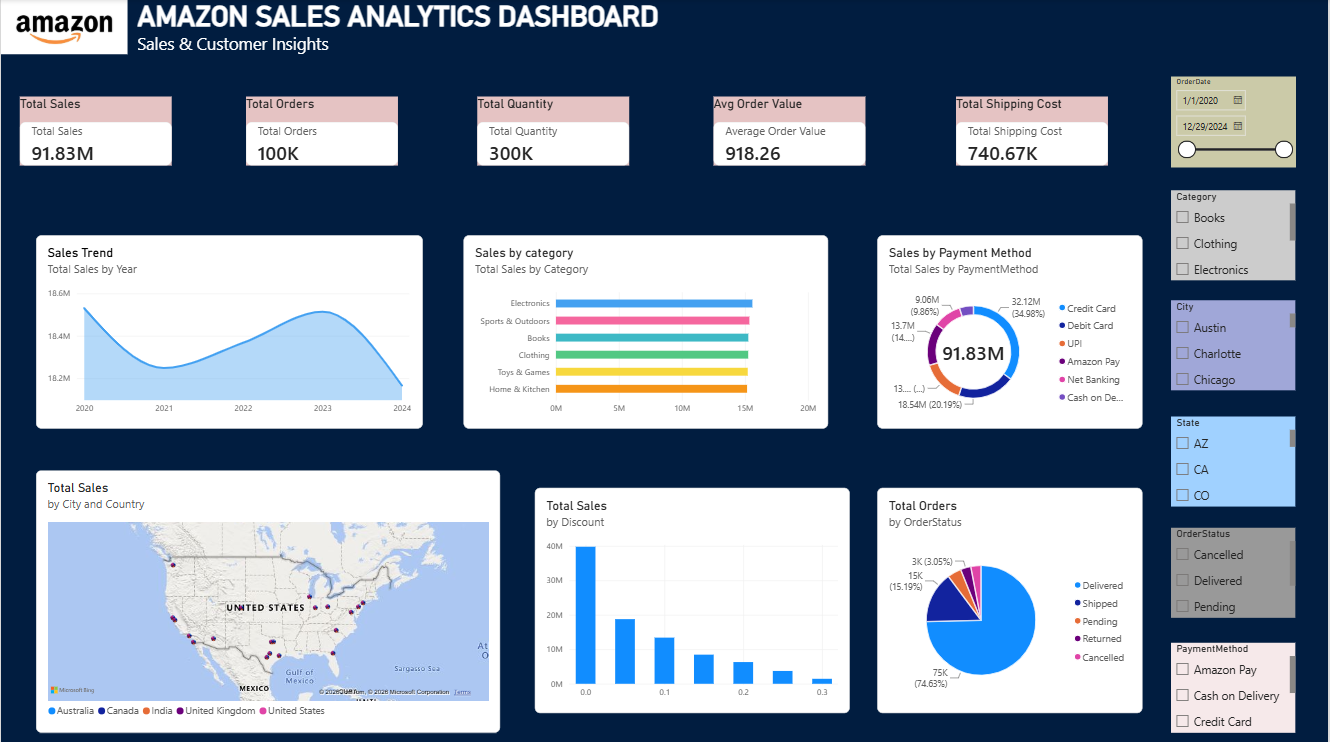

The dashboard page shown, as its layout file describes it:
{"tool":"powerbi","page":{"name":"Page 1","canvas":[1920,1080],"ordinal":0},"visuals":[{"type":"image","box":[0,0,183.2,80.3],"z":1},{"type":"textbox","title":"AMAZON SALES ANALYTICS DASHBOARD","box":[197.3,0,970,79.6],"z":2},{"type":"cardVisual","title":"Total Orders","fields":{"Data":["Amazon.Total Orders"]},"box":[354,142,220,100],"z":4},{"type":"cardVisual","title":"Total Quantity","fields":{"Data":["Amazon.Total Quantity"]},"box":[690,142,220,100],"z":5},{"type":"cardVisual","title":"Avg Order Value","fields":{"Data":["Amazon.Average Order Value"]},"box":[1032,142,220,100],"z":6},{"type":"cardVisual","title":"Total Shipping Cost","fields":{"Data":["Amazon.Total Shipping Cost"]},"box":[1382,142,220,100],"z":7},{"type":"areaChart","title":"Sales Trend","fields":{"Category":["Amazon.OrderDate.Variation.Date Hierarchy.Year","Amazon.OrderDate.Variation.Date Hierarchy.Quarter","Amazon.OrderDate.Variation.Date Hierarchy.Month","Amazon.OrderDate.Variation.Date Hierarchy.Day"],"Y":["Amazon.Total Sales"]},"box":[50,342,560,280],"z":8},{"type":"clusteredBarChart","title":"Sales by category","fields":{"Category":["Amazon.Category"],"Y":["Amazon.Total Sales"]},"box":[670,342,528,280],"z":9},{"type":"donutChart","title":"Sales by Payment Method","fields":{"Category":["Amazon.PaymentMethod"],"Y":["Amazon.Total Sales"]},"box":[1268,342,384,280],"z":10},{"type":"slicer","fields":{"Values":["Amazon.OrderDate"]},"box":[1694,112,180,130.4],"z":12},{"type":"slicer","fields":{"Values":["Amazon.Category"]},"box":[1694,276,180,130],"z":13},{"type":"slicer","fields":{"Values":["Amazon.City"]},"box":[1694,436,180,130.4],"z":14},{"type":"slicer","fields":{"Values":["Amazon.State"]},"box":[1694,604,180,130],"z":16},{"type":"slicer","fields":{"Values":["Amazon.OrderStatus"]},"box":[1694,766,180,130],"z":18},{"type":"slicer","fields":{"Values":["Amazon.PaymentMethod"]},"box":[1694,932,180,130],"z":19},{"type":"map","fields":{"Category":["Amazon.City"],"Series":["Amazon.Country"],"X":["Amazon.Total Sales"]},"box":[50,682,672,380],"z":21},{"type":"cardVisual","title":"Total Sales","fields":{"Data":["Amazon.Total Sales"]},"box":[28,142,220,100],"z":22},{"type":"pieChart","fields":{"Category":["Amazon.OrderStatus"],"Y":["Amazon.Total Orders"]},"box":[1268,708,384,326],"z":23},{"type":"clusteredColumnChart","fields":{"Category":["Amazon.Discount"],"Y":["Amazon.Total Sales"]},"box":[772,708,456,326],"z":24}]}

Visuals, with their boxes in screenshot pixels (x1, y1, x2, y2), scaled from the page's 1920x1080 canvas onto the 1330x742 screenshot:
image: [0,0,127,55]
"AMAZON SALES ANALYTICS DASHBOARD" textbox: [137,0,809,55]
"Total Orders" cardVisual: [245,98,398,166]
"Total Quantity" cardVisual: [478,98,630,166]
"Avg Order Value" cardVisual: [715,98,867,166]
"Total Shipping Cost" cardVisual: [957,98,1110,166]
"Sales Trend" areaChart: [35,235,423,427]
"Sales by category" clusteredBarChart: [464,235,830,427]
"Sales by Payment Method" donutChart: [878,235,1144,427]
slicer - Amazon.OrderDate: [1173,77,1298,167]
slicer - Amazon.Category: [1173,190,1298,279]
slicer - Amazon.City: [1173,300,1298,389]
slicer - Amazon.State: [1173,415,1298,504]
slicer - Amazon.OrderStatus: [1173,526,1298,616]
slicer - Amazon.PaymentMethod: [1173,640,1298,730]
map - Amazon.City x Amazon.Country: [35,469,500,730]
"Total Sales" cardVisual: [19,98,172,166]
pieChart - Amazon.OrderStatus x Amazon.Total Orders: [878,486,1144,710]
clusteredColumnChart - Amazon.Discount x Amazon.Total Sales: [535,486,851,710]
